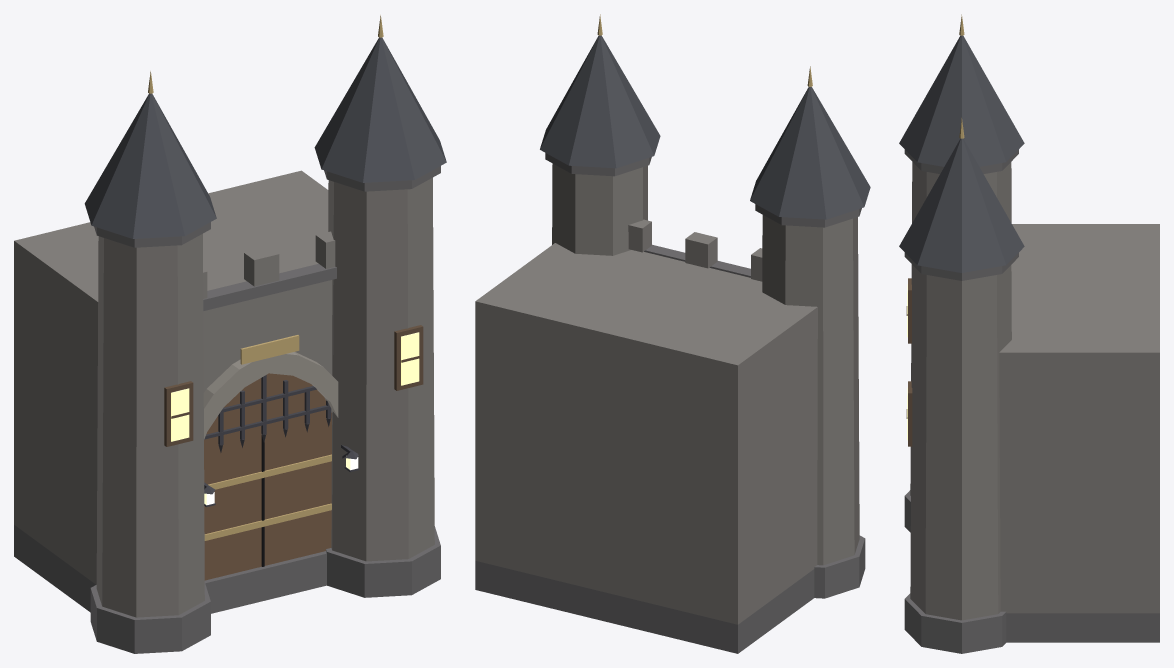
File: gatehouse.glb
3 views of the same model, side by side, from view 1: azimuth 30°, elevation 25°; view 2: azimuth 150°, elevation 25°; view 3: azimuth 270°, elevation 25° (orthographic). The views are drawn at different scales.
Visible parts, largest first — view 1: Upper, Plinth; view 2: Upper, Plinth; view 3: Upper, Plinth.
Part boxes in pixels (box(x1,y1,x2,y2)): Upper: box(14, 15, 446, 617); Plinth: box(14, 525, 440, 653); Upper: box(475, 14, 870, 624); Plinth: box(475, 535, 865, 653); Upper: box(899, 14, 1159, 620); Plinth: box(904, 490, 1159, 653).
Bounding box in the file's own units: 9.7 × 14.85 × 6.85.
